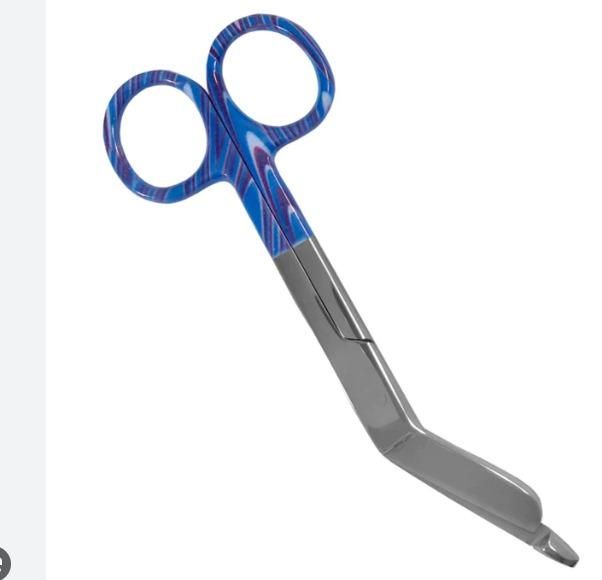Bandage Sciccors: (85, 9, 588, 575)
